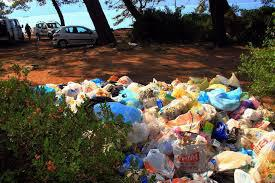Garbage: (138, 115, 266, 183), (121, 78, 194, 153), (177, 75, 237, 158), (239, 97, 274, 183), (50, 84, 138, 108)
